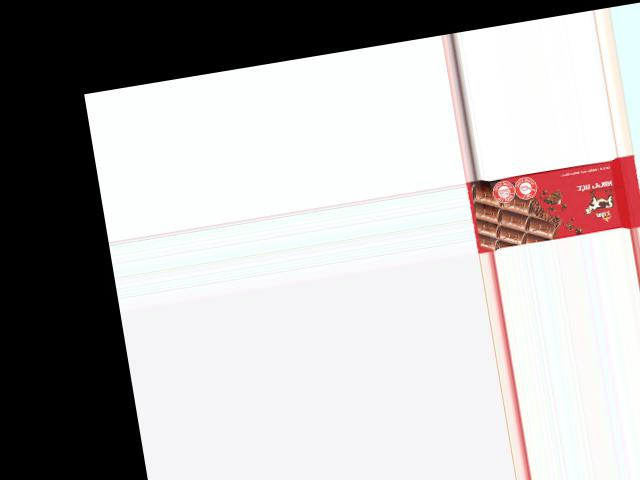chocolate: (468, 154, 640, 252)
